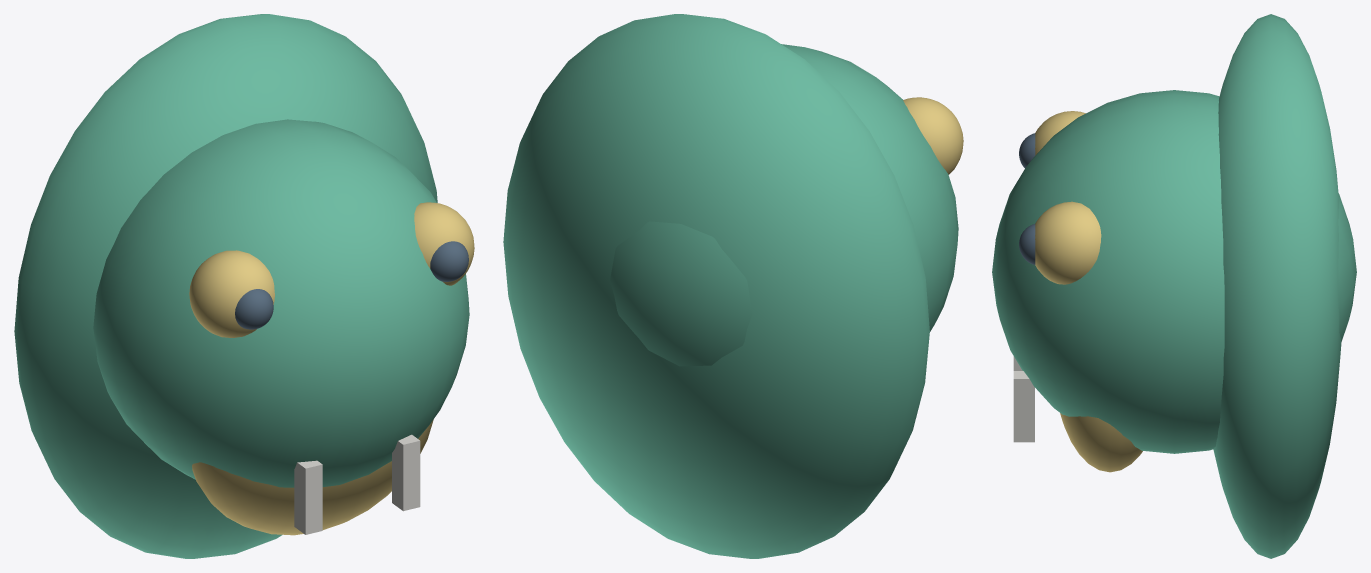
File: cobra.glb
The picture shows the model from 3 angles, left to right: view 1: azimuth 30°, elevation 25°; view 2: azimuth 150°, elevation 25°; view 3: azimuth 270°, elevation 25°; orthographic projection. The views are drawn at different scales.
Size of the model in its own units: 0.86 by 1.05 by 0.68.
